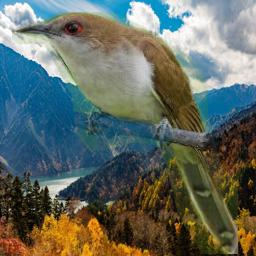Cuckoo: (12, 12, 238, 254)
